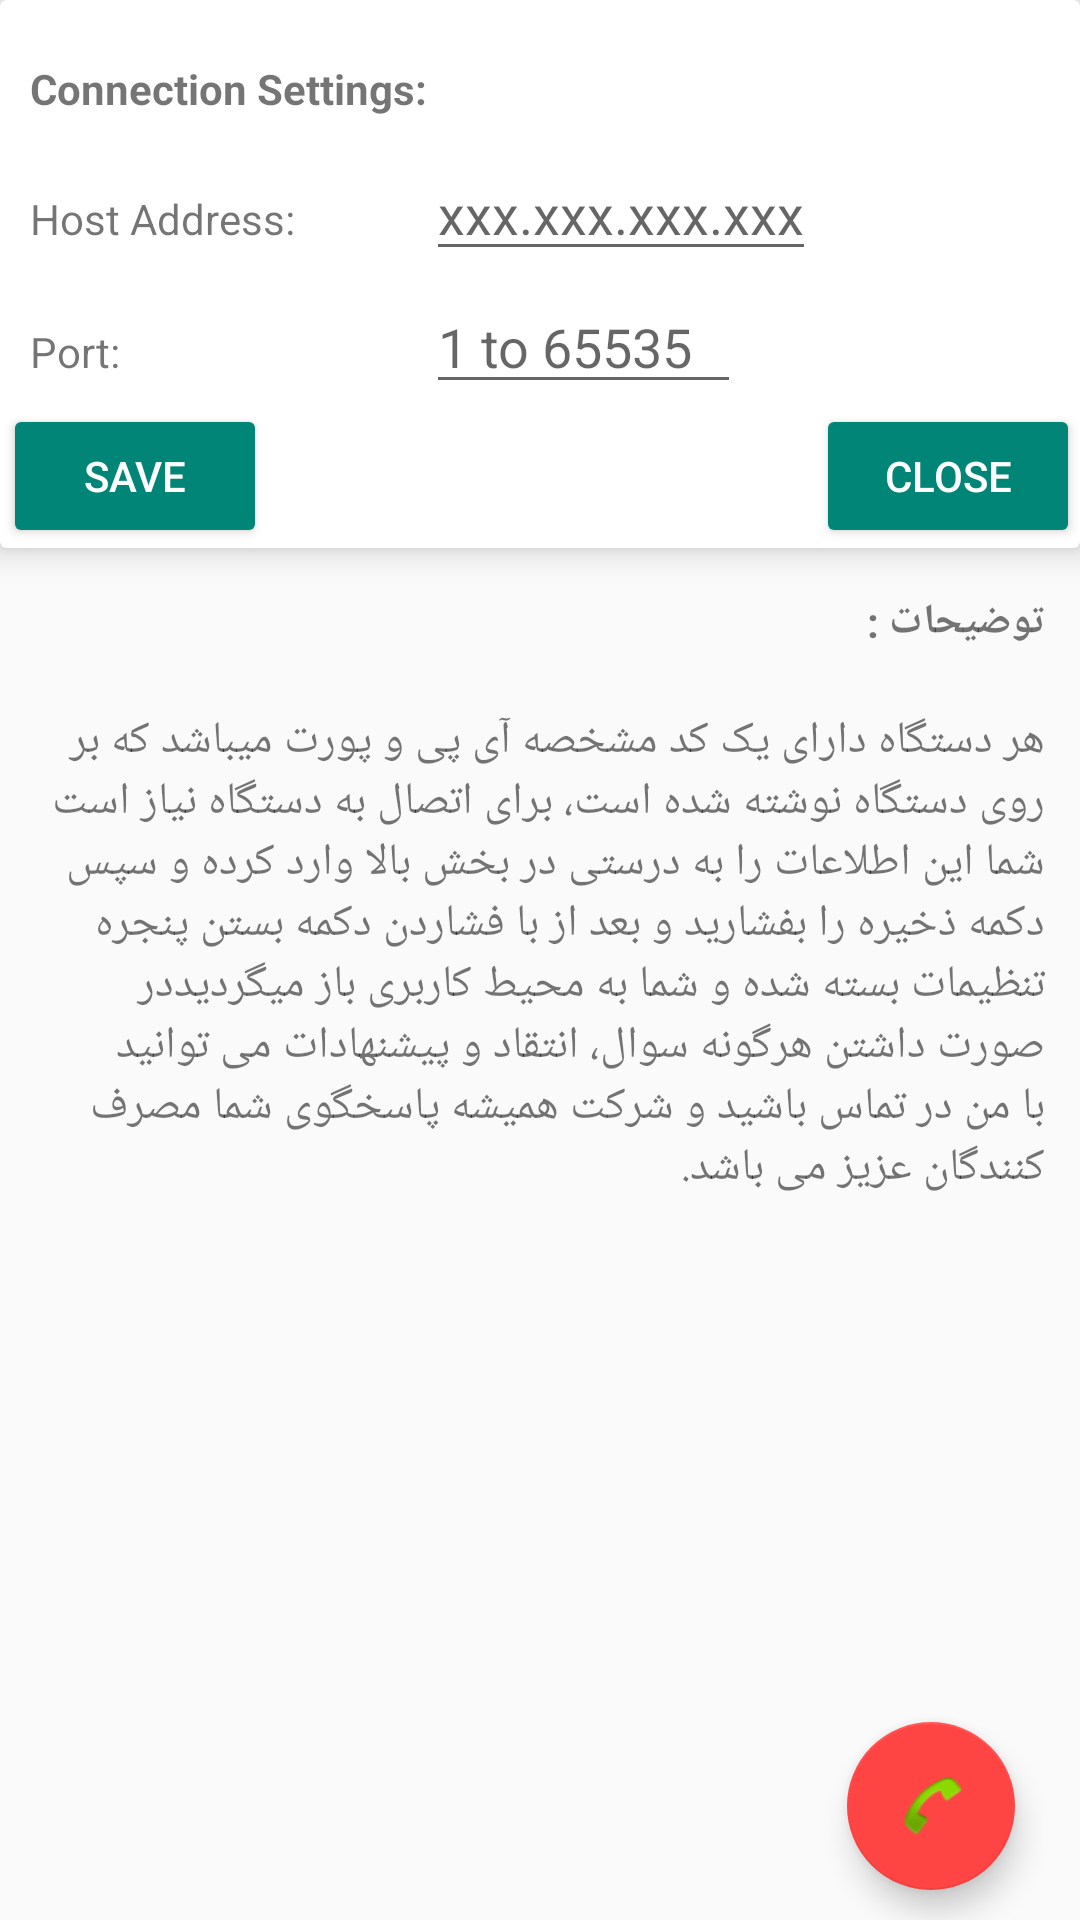

Icons on this 1080 × 1920 Android screen, each with its box as (x1, y1, x2, y2):
sym action call: (847, 1722, 1015, 1890)
